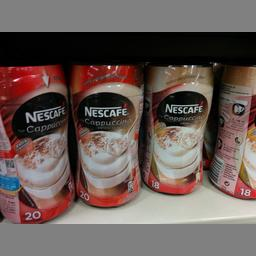coffee: (0, 60, 73, 222), (68, 60, 146, 206), (142, 62, 214, 196), (208, 65, 255, 199)
